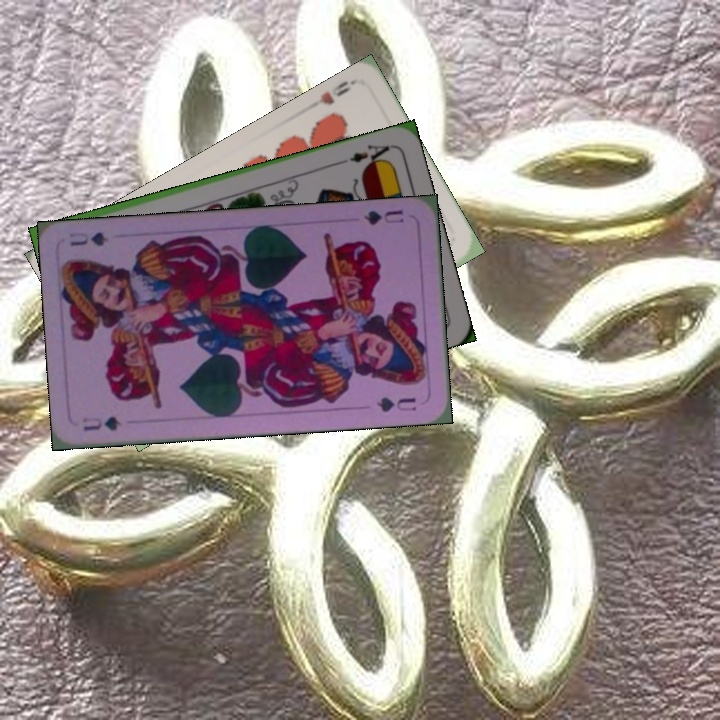EA: (337, 140, 395, 169)
GU: (359, 206, 406, 228), (78, 412, 124, 434)
H9: (303, 76, 357, 112)
